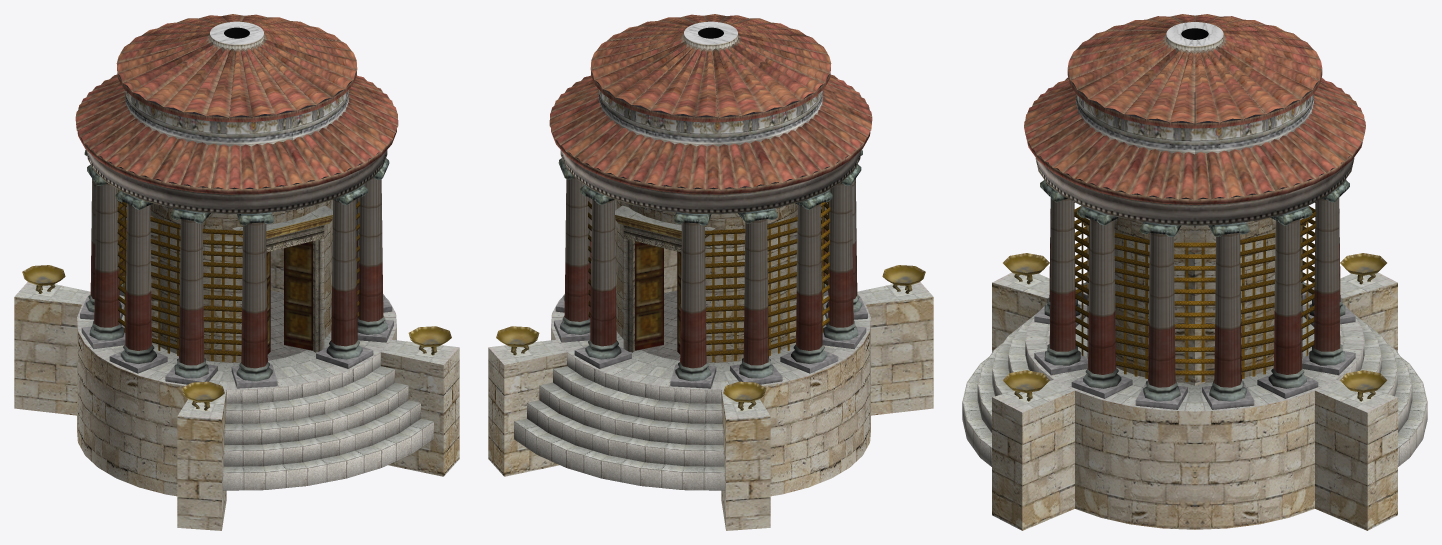
File: s_romans_temple_vesta.glb
The picture shows the model from 3 angles, left to right: view 1: azimuth 30°, elevation 25°; view 2: azimuth 150°, elevation 25°; view 3: azimuth 270°, elevation 25°; orthographic projection. The views are drawn at different scales.
Visible parts, largest first — view 1: s_romans_temple_vesta_part0; view 2: s_romans_temple_vesta_part0; view 3: s_romans_temple_vesta_part0.
Part boxes in pixels (x1,y1,x2,y2): s_romans_temple_vesta_part0: (14, 14, 459, 530); s_romans_temple_vesta_part0: (488, 14, 933, 530); s_romans_temple_vesta_part0: (962, 14, 1427, 530).
Size of the model in its own units: 3.71 by 5.03 by 5.
1 material, 1 textured.
